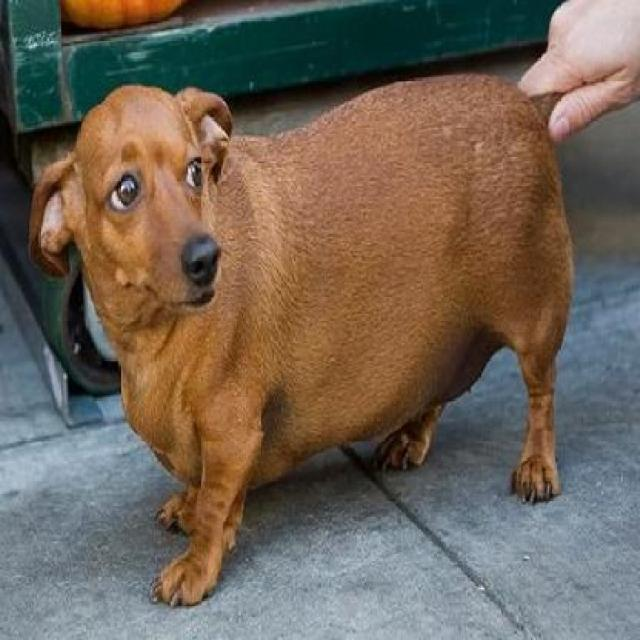Dog: (29, 66, 582, 608)
